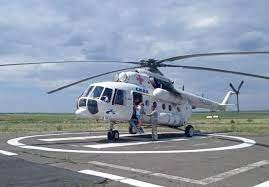heli: (1, 51, 269, 140)
